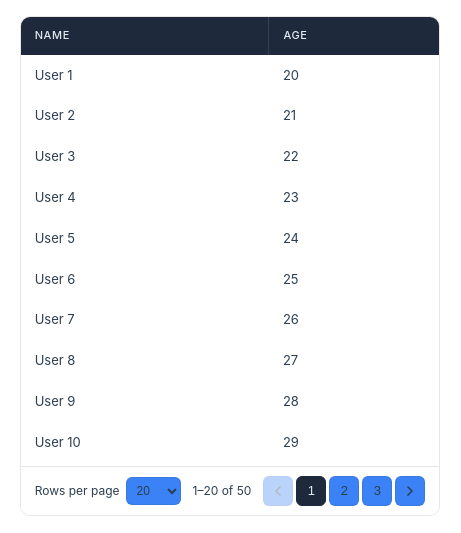
Test: BaseTable.vue › changes page via page numbers
Click the button "2": point(344, 491) [329,476,359,506]
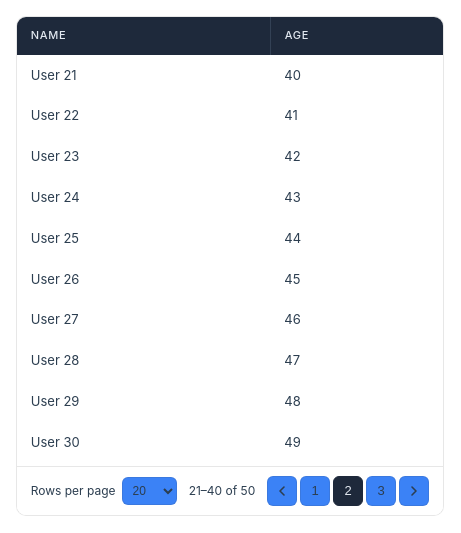
Now the text "21–40 of 50" is shown, box [189,481,255,501]
